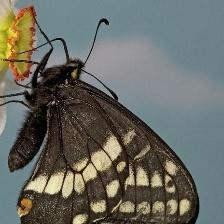butterfly: (8, 60, 200, 224)
